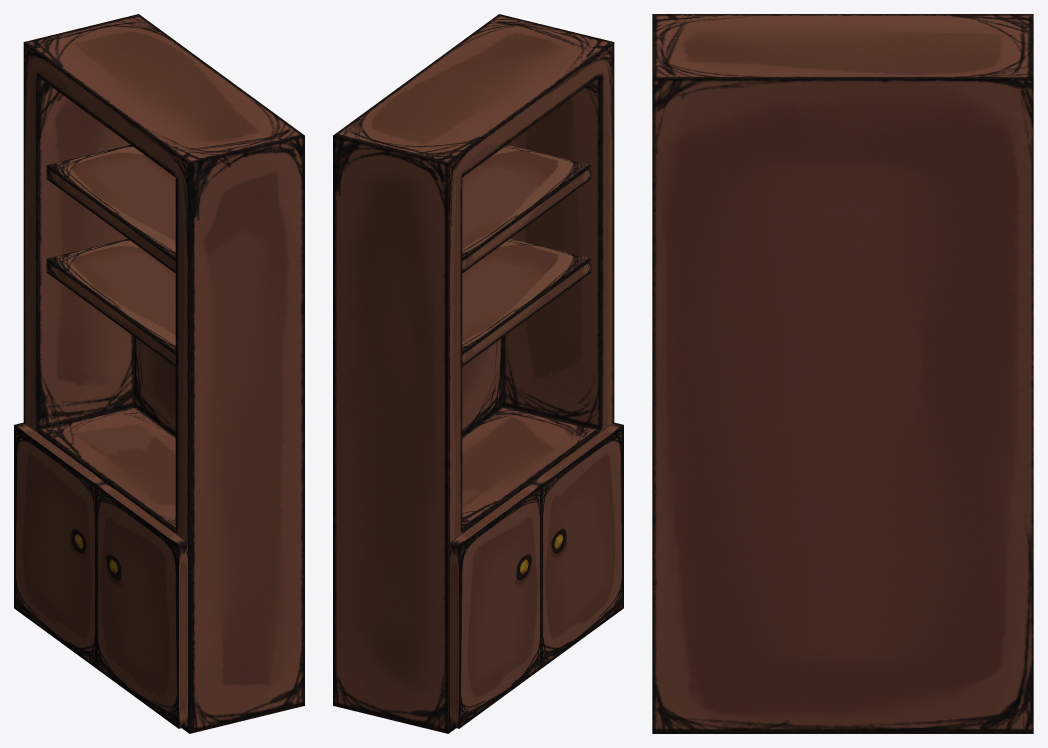
The model's file is cupboard_with_doors.fbx.
The picture shows the model from 3 angles, left to right: view 1: azimuth 30°, elevation 25°; view 2: azimuth 150°, elevation 25°; view 3: azimuth 270°, elevation 25°; orthographic projection. The views are drawn at different scales.
Parts seen in each view (by area): view 1: cupboard_with_doors.001, door.005, door.004, cupboard_shelf.005, cupboard_shelf.006; view 2: cupboard_with_doors.001, door.004, door.005, cupboard_shelf.005, cupboard_shelf.006; view 3: cupboard_with_doors.001.
Part boxes in pixels (x1,y1,x2,y2): cupboard_with_doors.001: (23,14,304,733); door.005: (96,483,188,728); door.004: (14,422,105,667); cupboard_shelf.005: (46,144,175,273); cupboard_shelf.006: (46,239,175,366); cupboard_with_doors.001: (333,14,614,733); door.004: (449,483,541,728); door.005: (532,422,623,667); cupboard_shelf.005: (462,144,591,273); cupboard_shelf.006: (462,239,591,366); cupboard_with_doors.001: (652,14,1033,733).
Bounding box in the file's own units: 0.7908 × 3.44 × 1.81.
Materials: 4 (4 with a texture image).
